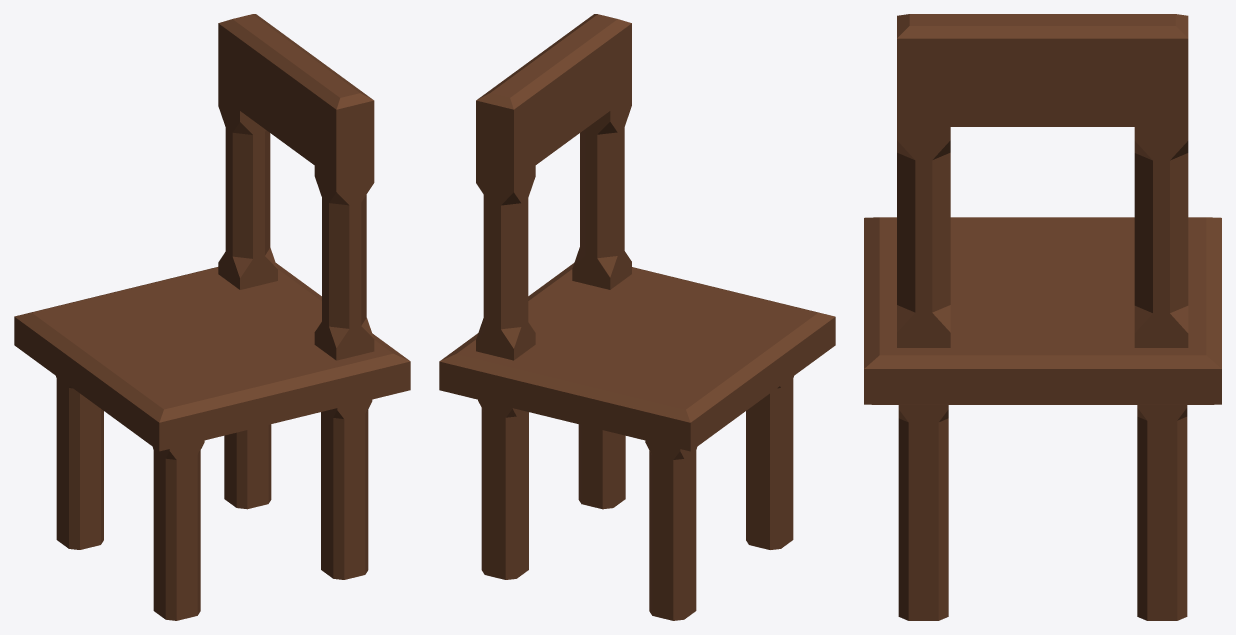
File: zidle.fbx
3 renders of one model, left to right at view 1: azimuth 30°, elevation 25°; view 2: azimuth 150°, elevation 25°; view 3: azimuth 270°, elevation 25°, orthographic. The views are drawn at different scales.
Visible parts, largest first — view 1: Cube; view 2: Cube; view 3: Cube.
Part boxes in pixels (bbox=[...]): Cube: bbox=[14, 14, 410, 620]; Cube: bbox=[439, 14, 835, 620]; Cube: bbox=[864, 14, 1221, 620].
Bounding box in the file's own units: 200 × 365 × 200.
